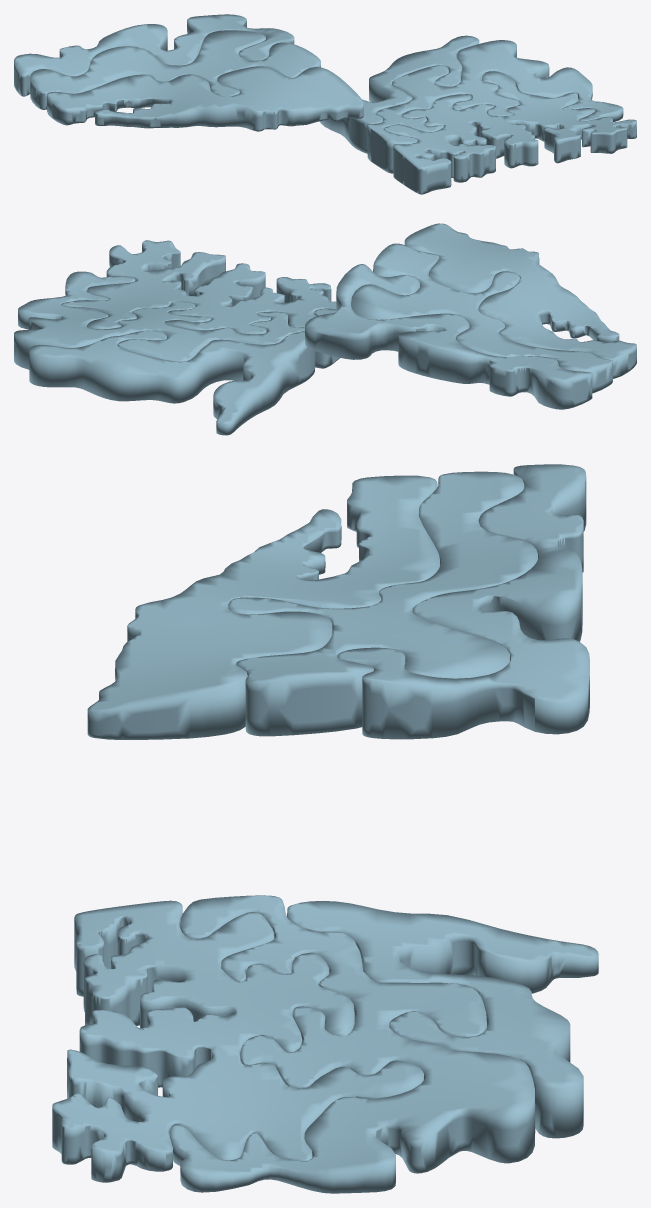
The model's file is map.glb.
3 views of the same model, one above another, from view 1: azimuth 30°, elevation 25°; view 2: azimuth 150°, elevation 25°; view 3: azimuth 270°, elevation 25° (orthographic). The views are drawn at different scales.
Visible parts, largest first — view 1: 7a276b65-SHORE_THING_FINAL_MAP_04.stl; view 2: 7a276b65-SHORE_THING_FINAL_MAP_04.stl; view 3: 7a276b65-SHORE_THING_FINAL_MAP_04.stl.
Part boxes in pixels (bbox=[...]): 7a276b65-SHORE_THING_FINAL_MAP_04.stl: bbox=[14, 14, 636, 194]; 7a276b65-SHORE_THING_FINAL_MAP_04.stl: bbox=[14, 223, 636, 435]; 7a276b65-SHORE_THING_FINAL_MAP_04.stl: bbox=[52, 464, 598, 1193].
Bounding box in the file's own units: 0.3282 × 0.0701 × 0.1487.
